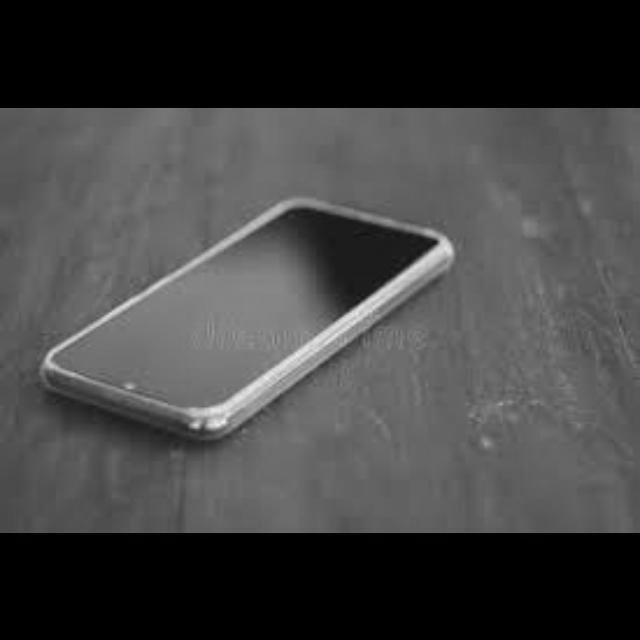fake: (44, 144, 472, 478)
